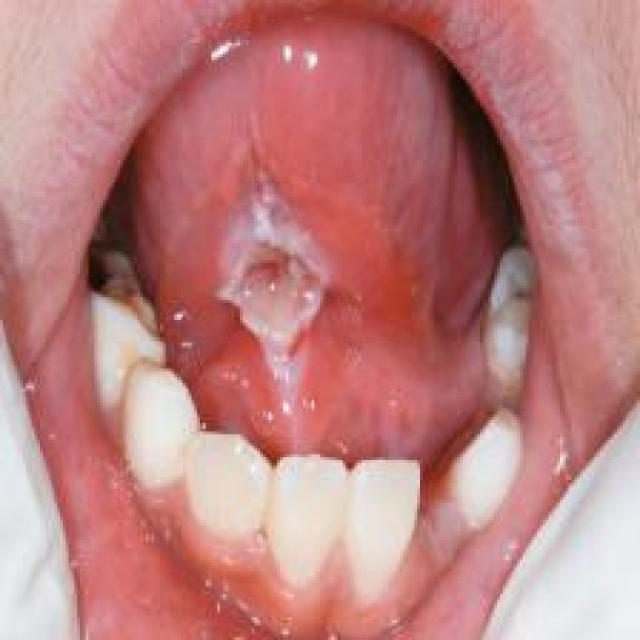processing_area: (133, 0, 504, 464)
ulcer-detection: (193, 125, 358, 437)
